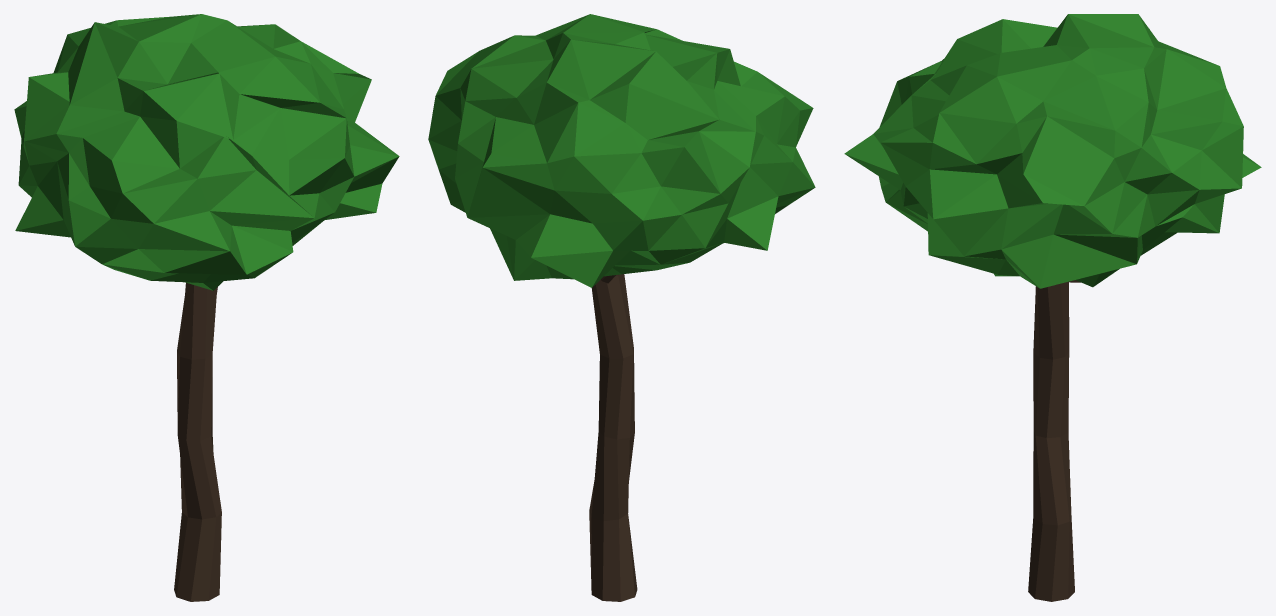
Rendered from tallTree.glb.
The picture shows the model from 3 angles, left to right: view 1: azimuth 30°, elevation 25°; view 2: azimuth 150°, elevation 25°; view 3: azimuth 270°, elevation 25°; orthographic projection.
Parts seen in each view (by area): view 1: Icosphere, Cylinder; view 2: Icosphere, Cylinder; view 3: Icosphere, Cylinder.
Part boxes in pixels (x1=…): Icosphere: x1=14, y1=14, x2=399, y2=290; Cylinder: x1=174, y1=282, x2=221, y2=601; Icosphere: x1=428, y1=14, x2=815, y2=287; Cylinder: x1=589, y1=274, x2=637, y2=601; Icosphere: x1=844, y1=14, x2=1261, y2=288; Cylinder: x1=1028, y1=280, x2=1080, y2=601.
Bounding box in the file's own units: 10.72 × 16.93 × 11.53.
